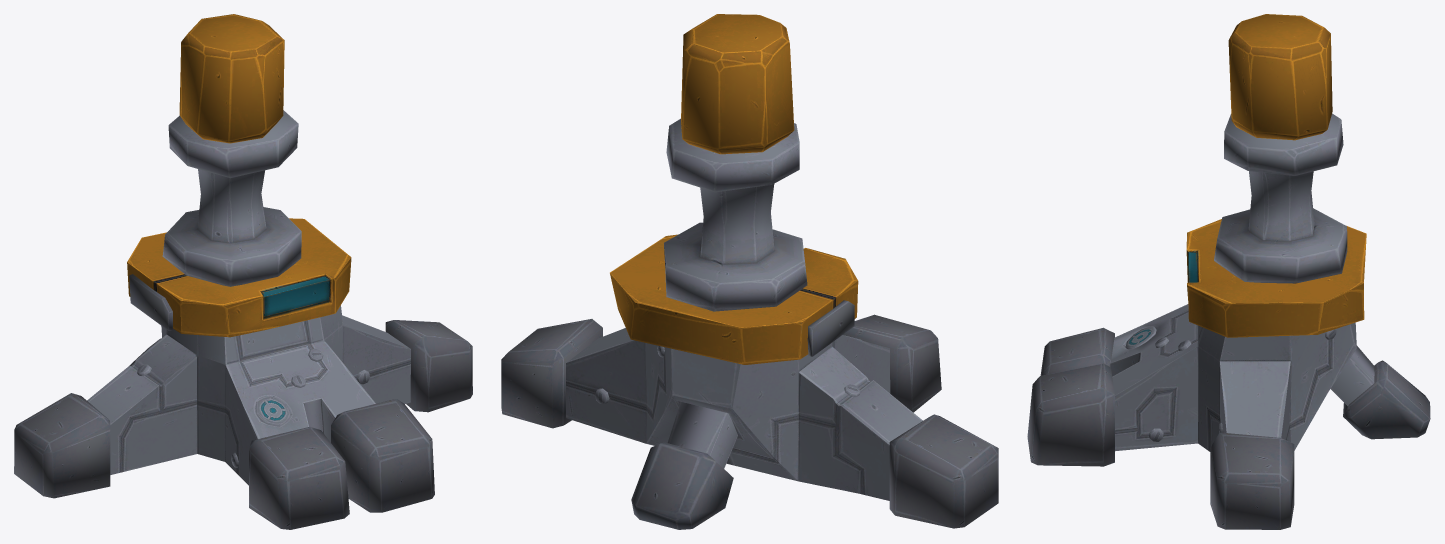
Rendered from juno cam.fbx.
The picture shows the model from 3 angles, left to right: view 1: azimuth 30°, elevation 25°; view 2: azimuth 150°, elevation 25°; view 3: azimuth 270°, elevation 25°; orthographic projection. The views are drawn at different scales.
Visible parts, largest first — view 1: node_id5; view 2: node_id5; view 3: node_id5.
Part boxes in pixels (x1,y1,x2,y2): node_id5: [14, 14, 472, 529]; node_id5: [501, 14, 998, 529]; node_id5: [1027, 14, 1430, 529].
Bounding box in the file's own units: 0.512 × 0.4508 × 0.4175.
Materials: 1 (1 with a texture image).
